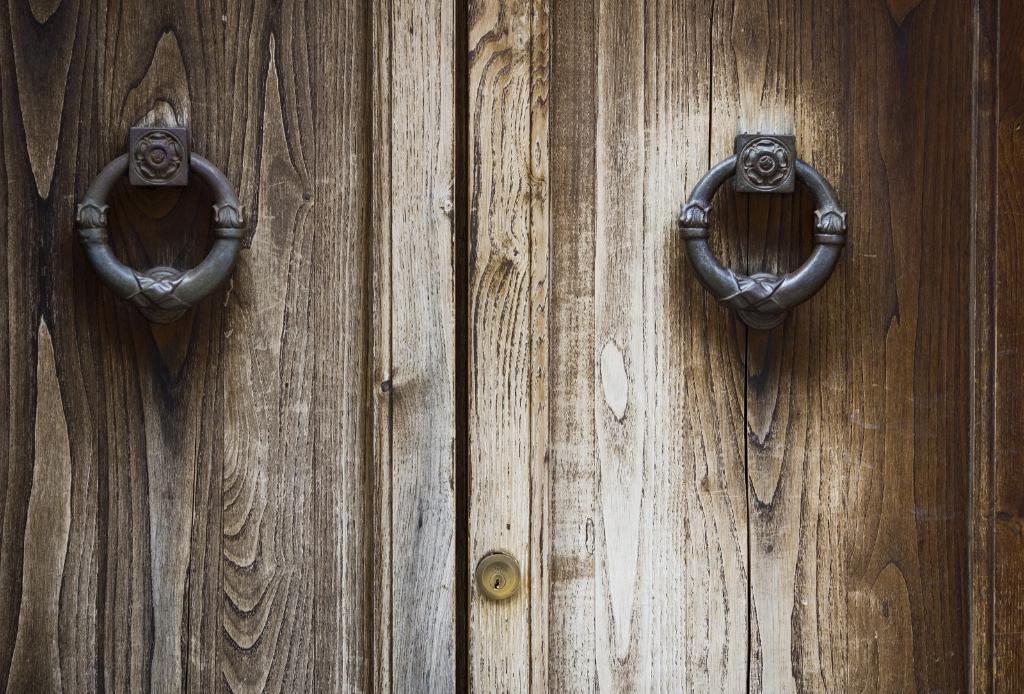door: (467, 20, 982, 694), (6, 15, 461, 694)
handle: (674, 152, 877, 331), (54, 140, 258, 318)
